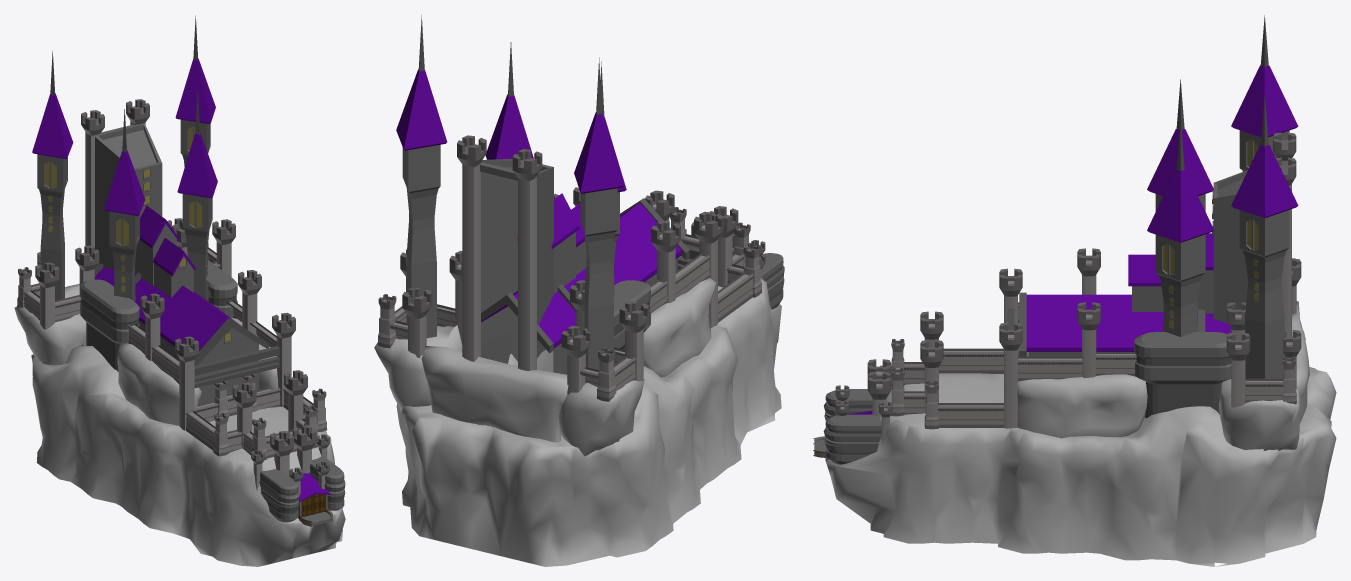
Rendered from Castle Ramke 2.0pCube170.fbx.
3 views of the same model, side by side, from view 1: azimuth 30°, elevation 25°; view 2: azimuth 150°, elevation 25°; view 3: azimuth 270°, elevation 25° (orthographic). The views are drawn at different scales.
Parts seen in each view (by area): view 1: pCube170; view 2: pCube170; view 3: pCube170.
Part boxes in pixels (x1,y1,x2,y2): pCube170: (14, 15, 345, 566); pCube170: (374, 15, 784, 566); pCube170: (813, 15, 1336, 566).
Bounding box in the file's own units: 42433 × 79433 × 82715.
4 materials, 3 textured.
